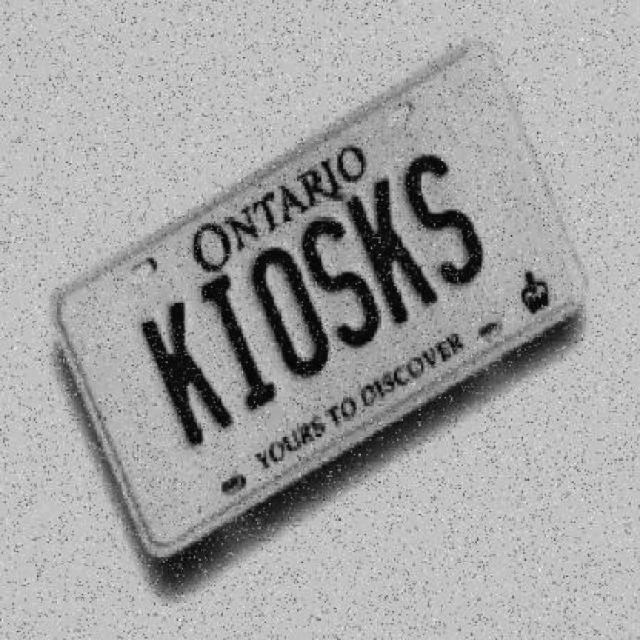licenseplate: (80, 144, 491, 458)
